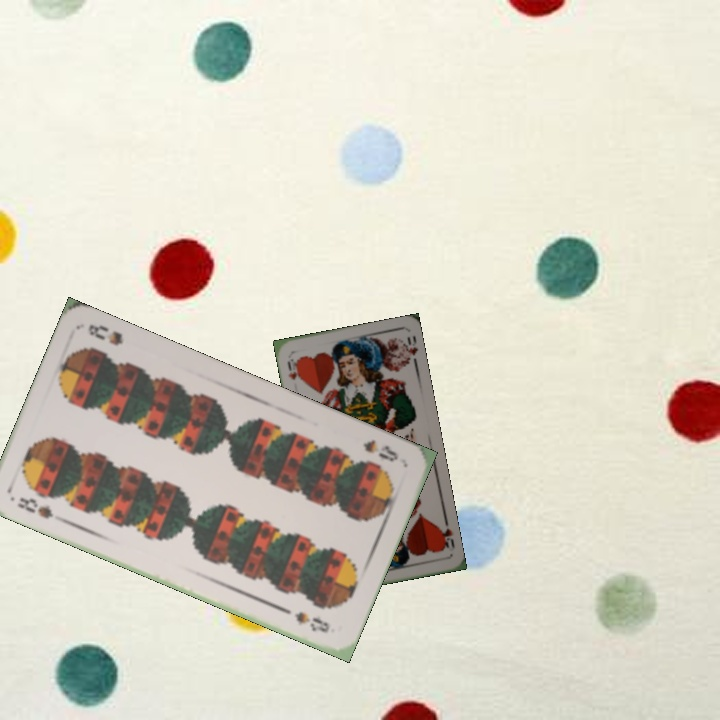HO: (434, 522, 457, 554), (283, 354, 303, 383)
S8: (13, 493, 56, 522), (359, 436, 401, 465)
